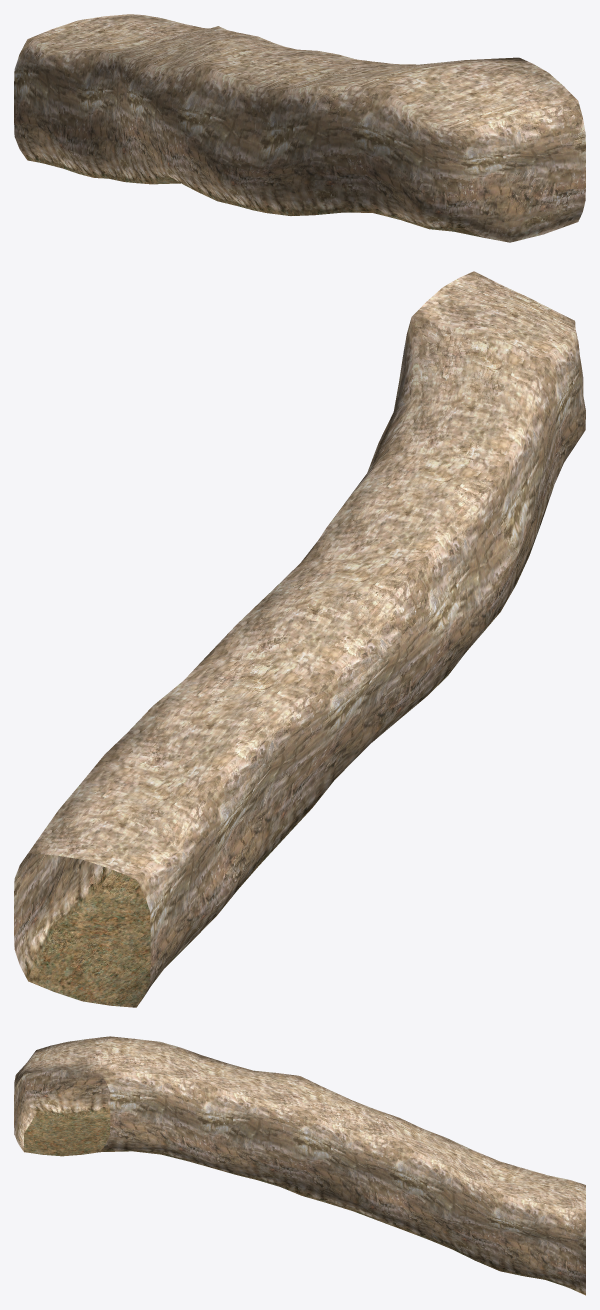
File: thm_all_cave_s03_mirror_r19_mesh_r19.fbx
3 renders of one model, top to bottom at view 1: azimuth 30°, elevation 25°; view 2: azimuth 150°, elevation 25°; view 3: azimuth 270°, elevation 25°, orthographic. The views are drawn at different scales.
Visible parts, largest first — view 1: mesh_node; view 2: mesh_node; view 3: mesh_node.
Boxes of the visible parts, <box> form: mesh_node: <box>14,14,585,242</box>; mesh_node: <box>14,271,585,1007</box>; mesh_node: <box>14,1036,585,1295</box>.
Size of the model in its own units: 11.49 by 21.45 by 47.48.
